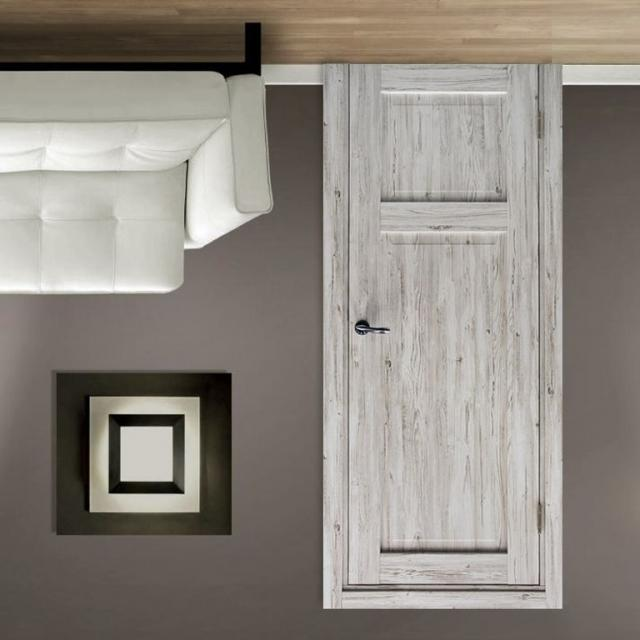close: (325, 43, 564, 606)
